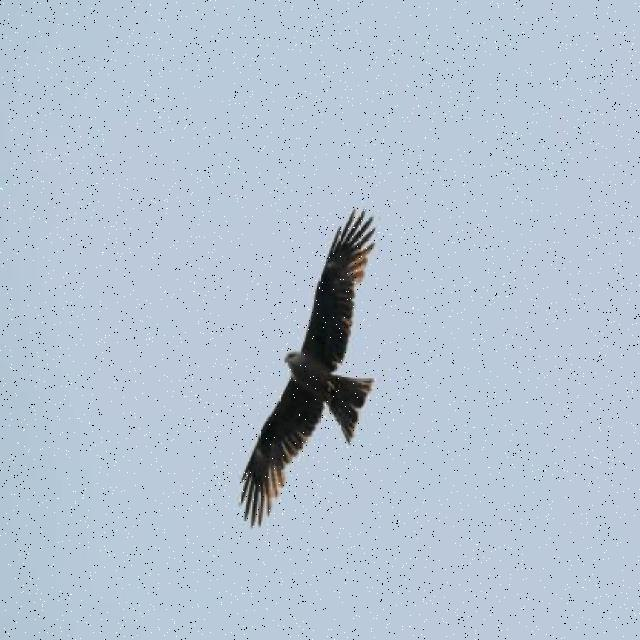bird: (241, 209, 377, 523)
